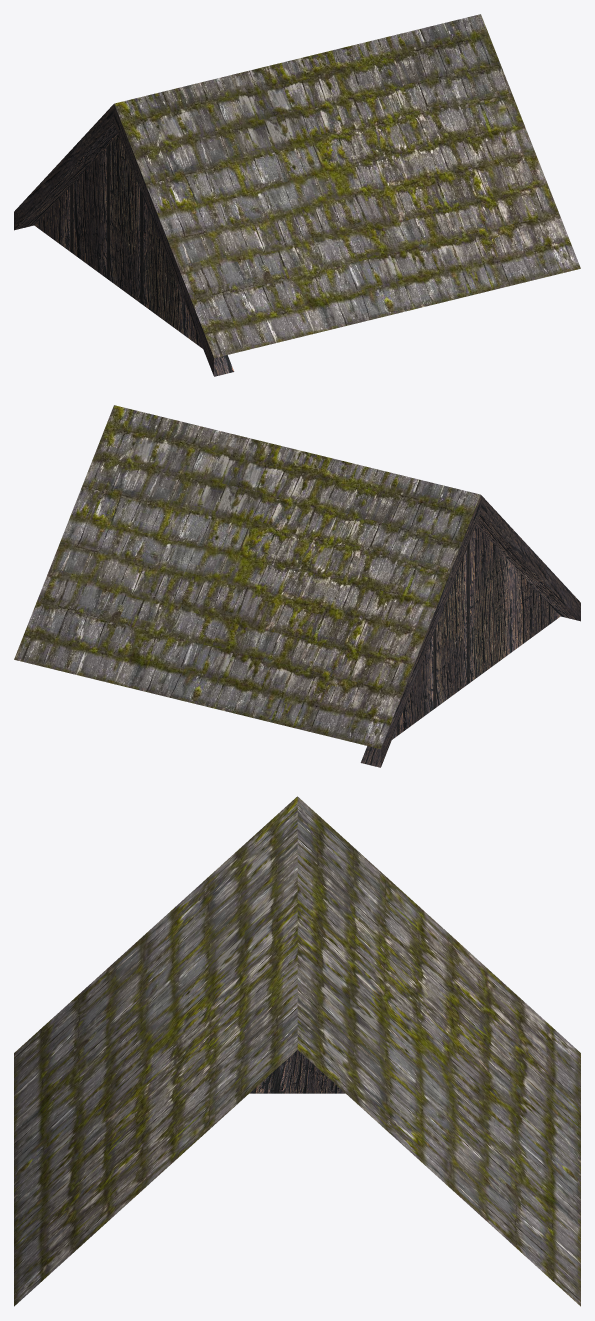
The model's file is House 1 Top Roof End.FBX.
The picture shows the model from 3 angles, top to bottom: view 1: azimuth 30°, elevation 25°; view 2: azimuth 150°, elevation 25°; view 3: azimuth 270°, elevation 25°; orthographic projection. The views are drawn at different scales.
Parts seen in each view (by area): view 1: Object05; view 2: Object05; view 3: Object05.
Boxes of the visible parts, x1,y1,x2,y2 form: Object05: (14,14,580,376); Object05: (14,405,580,767); Object05: (14,796,580,1306).
Size of the model in its own units: 250 by 130 by 236.
2 materials, 2 textured.
